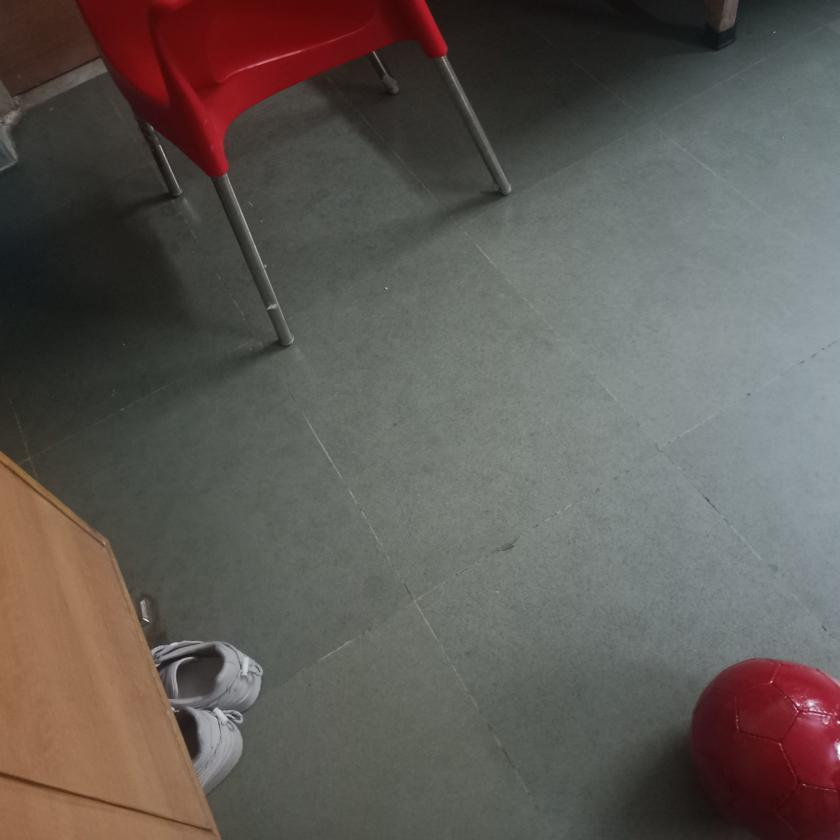Red_Ball: (684, 655, 838, 832)
